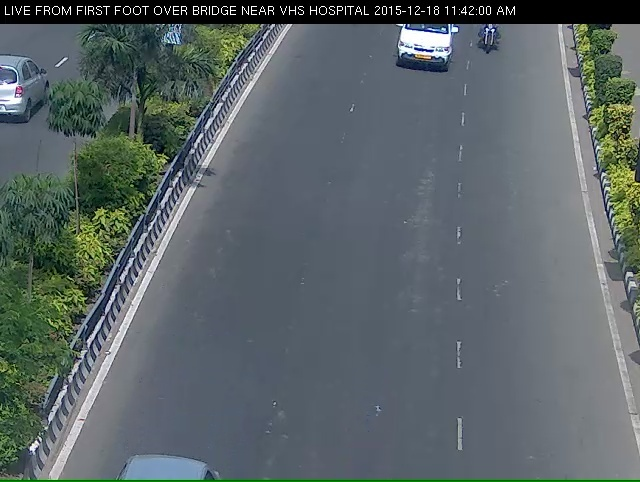Car: (383, 20, 460, 85)
Person: (479, 22, 511, 69)
